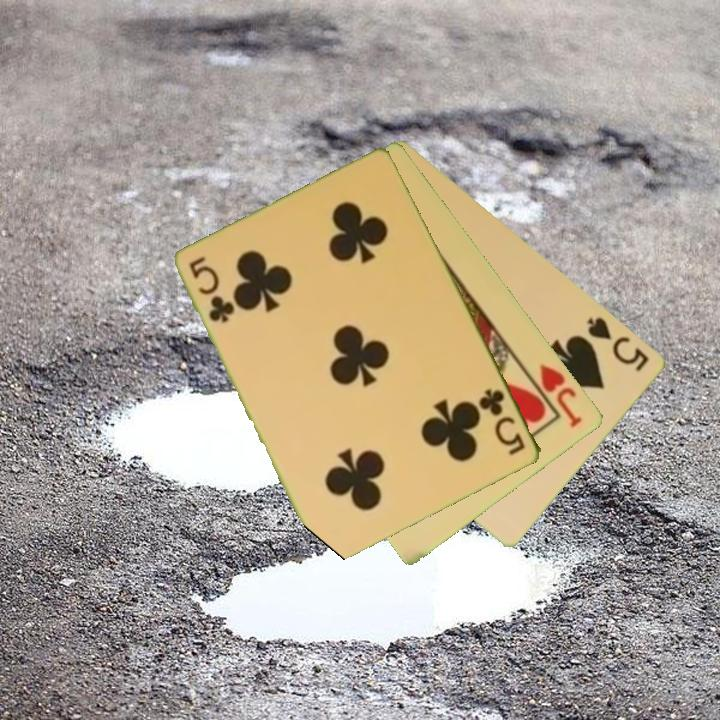5c: (475, 385, 529, 458), (186, 253, 237, 326)
5s: (584, 313, 653, 375)
Jh: (536, 360, 586, 431)
